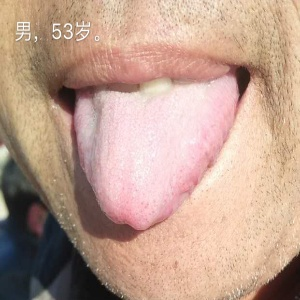st: (68, 95, 237, 231)
